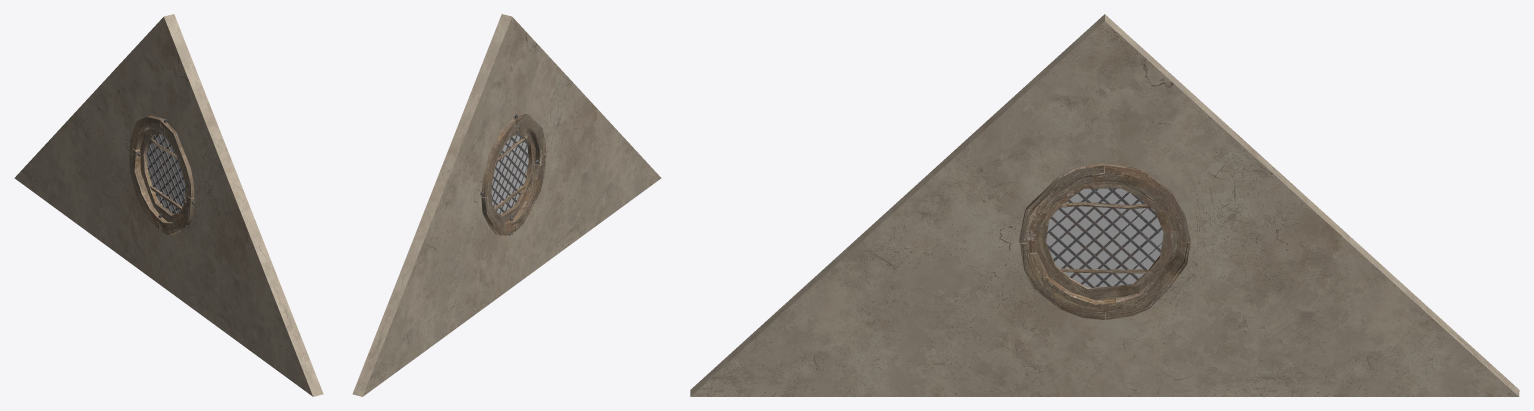
Rendered from SM_Wall_Top_04.fbx.
The picture shows the model from 3 angles, left to right: view 1: azimuth 30°, elevation 25°; view 2: azimuth 150°, elevation 25°; view 3: azimuth 270°, elevation 25°; orthographic projection. The views are drawn at different scales.
Parts seen in each view (by area): view 1: SM_Wall_Top_04_LOD0; view 2: SM_Wall_Top_04_LOD0; view 3: SM_Wall_Top_04_LOD0.
Boxes of the visible parts, <box> form: SM_Wall_Top_04_LOD0: <box>14,14,323,396</box>; SM_Wall_Top_04_LOD0: <box>352,14,661,396</box>; SM_Wall_Top_04_LOD0: <box>690,14,1519,396</box>.
Size of the model in its own units: 22.57 by 599 by 300.
